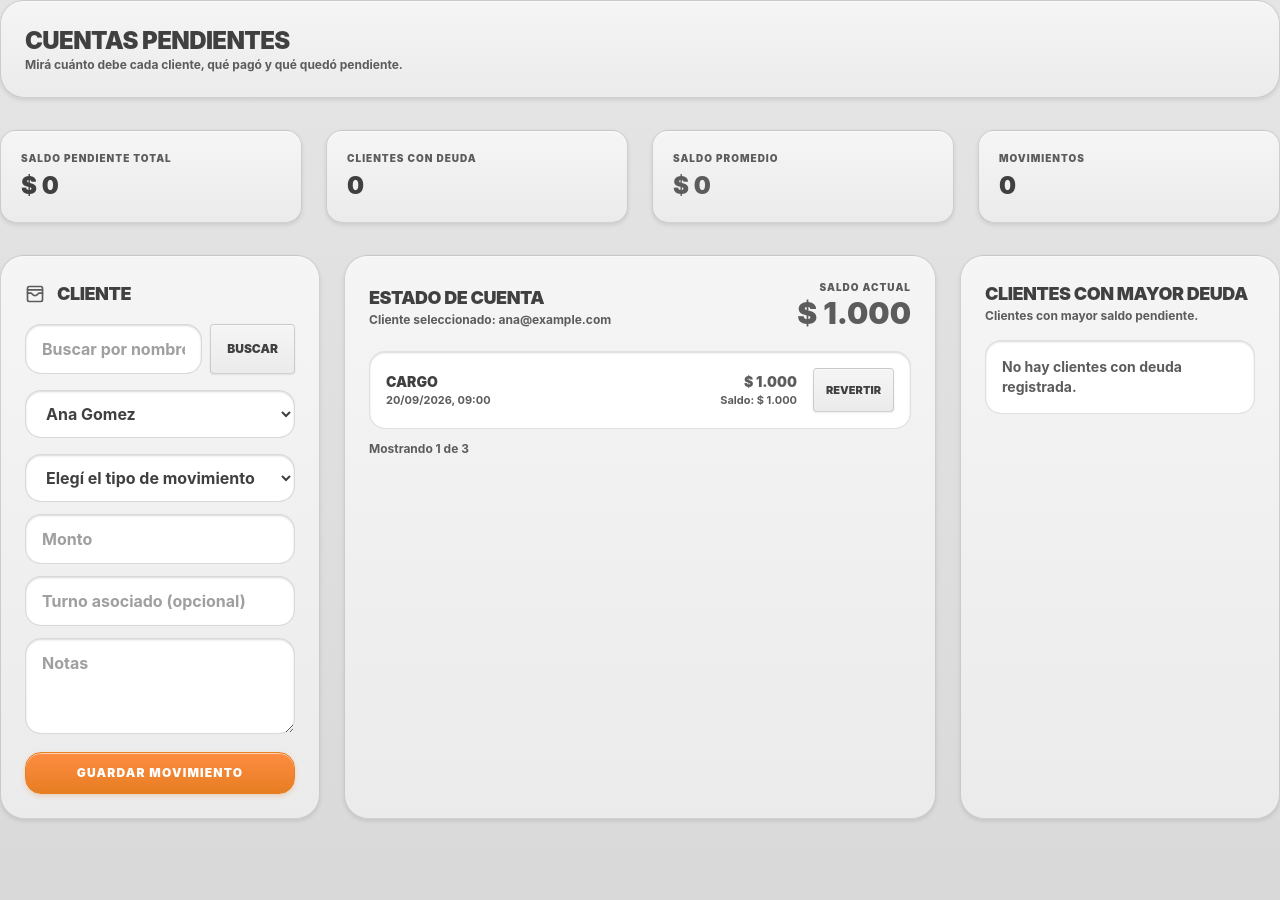
Test: LedgerPage: cargar un movimiento › confirma tipo, monto y cliente antes de guardar; "Volver" no guarda
This screenshot has width=1280, height=900.
Select "Pago" in the dropdown named "Tipo de movimiento": (160,478) [25,454,295,502]
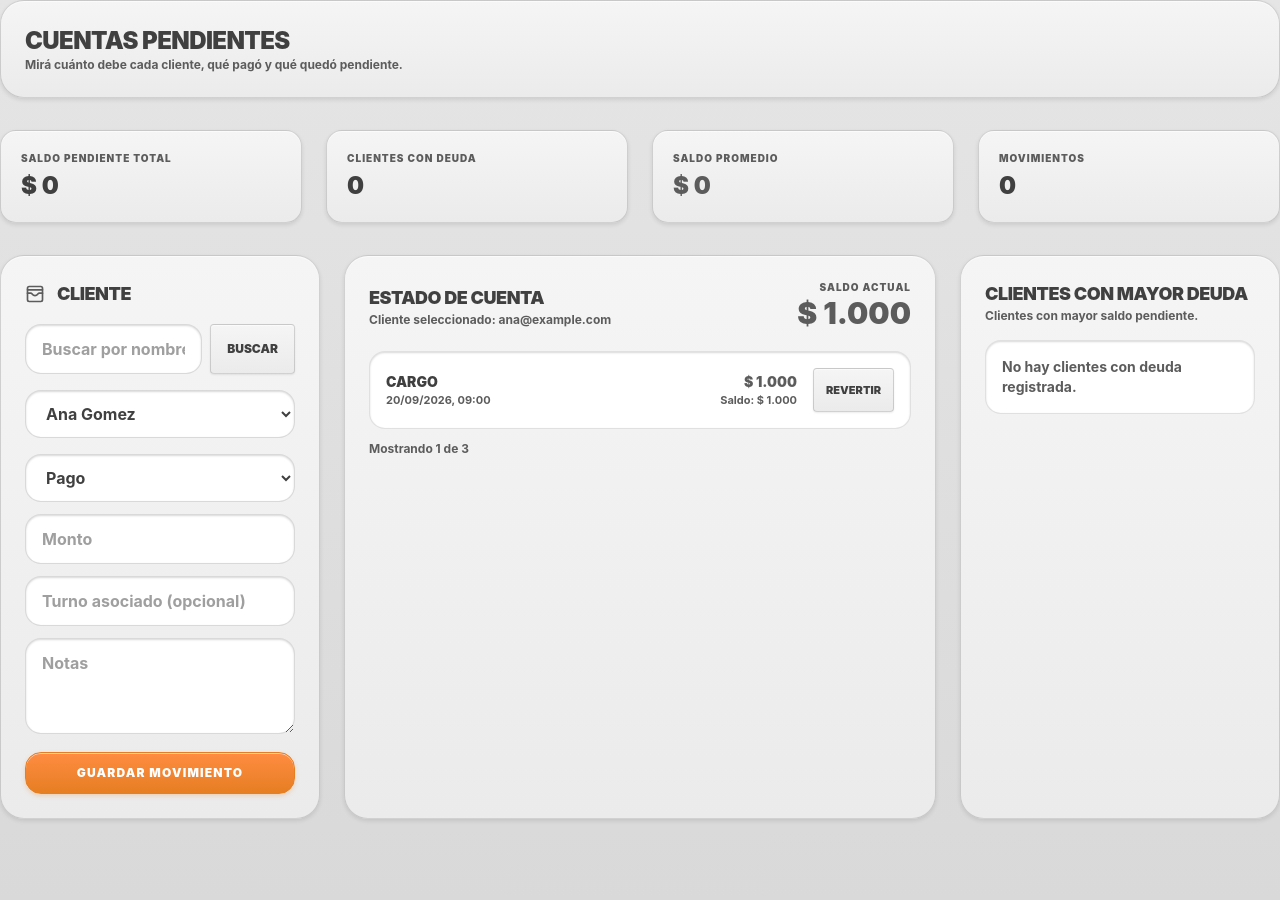
In the field labelled "Monto": (160,539) [25,514,295,564], type "99999"
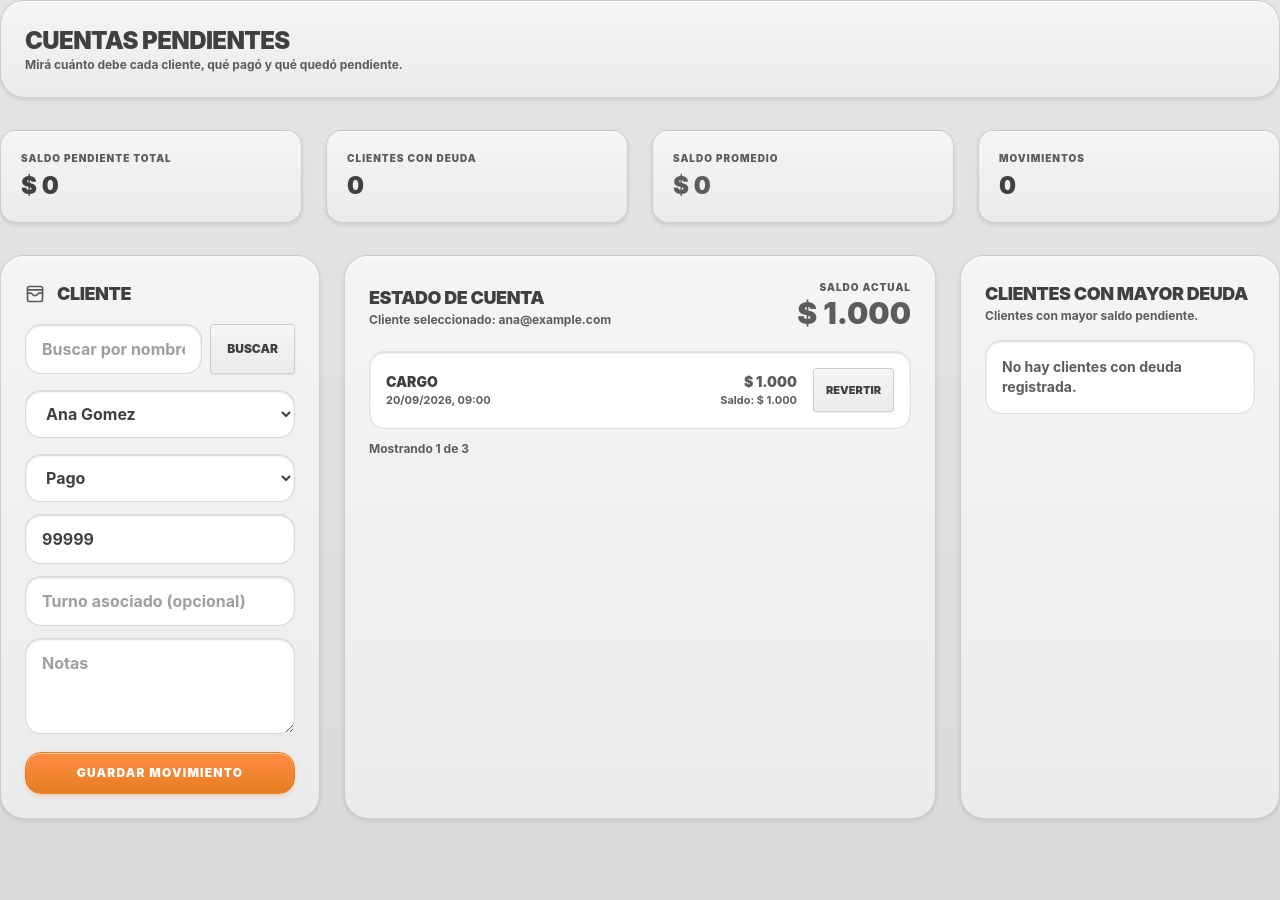
Click the button "Guardar movimiento": (160,773) [25,752,295,794]
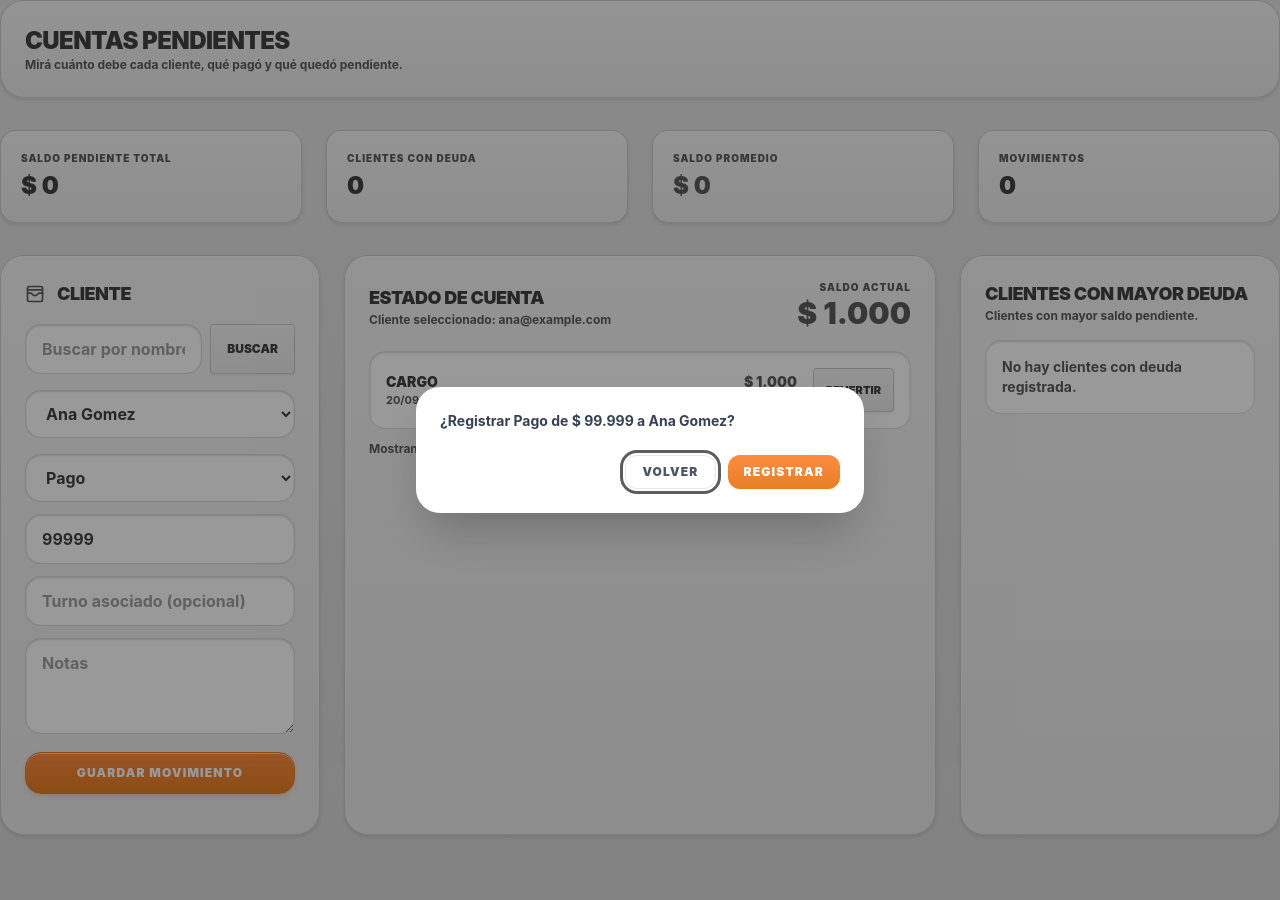
Expected: the dialog shows "Pago", [440,412,735,429]
Expected: the dialog shows "99.999", [440,412,735,429]
Expected: the dialog shows "Ana Gomez", [440,412,735,429]
Click the button "Volver": (670,472) [625,455,716,489]
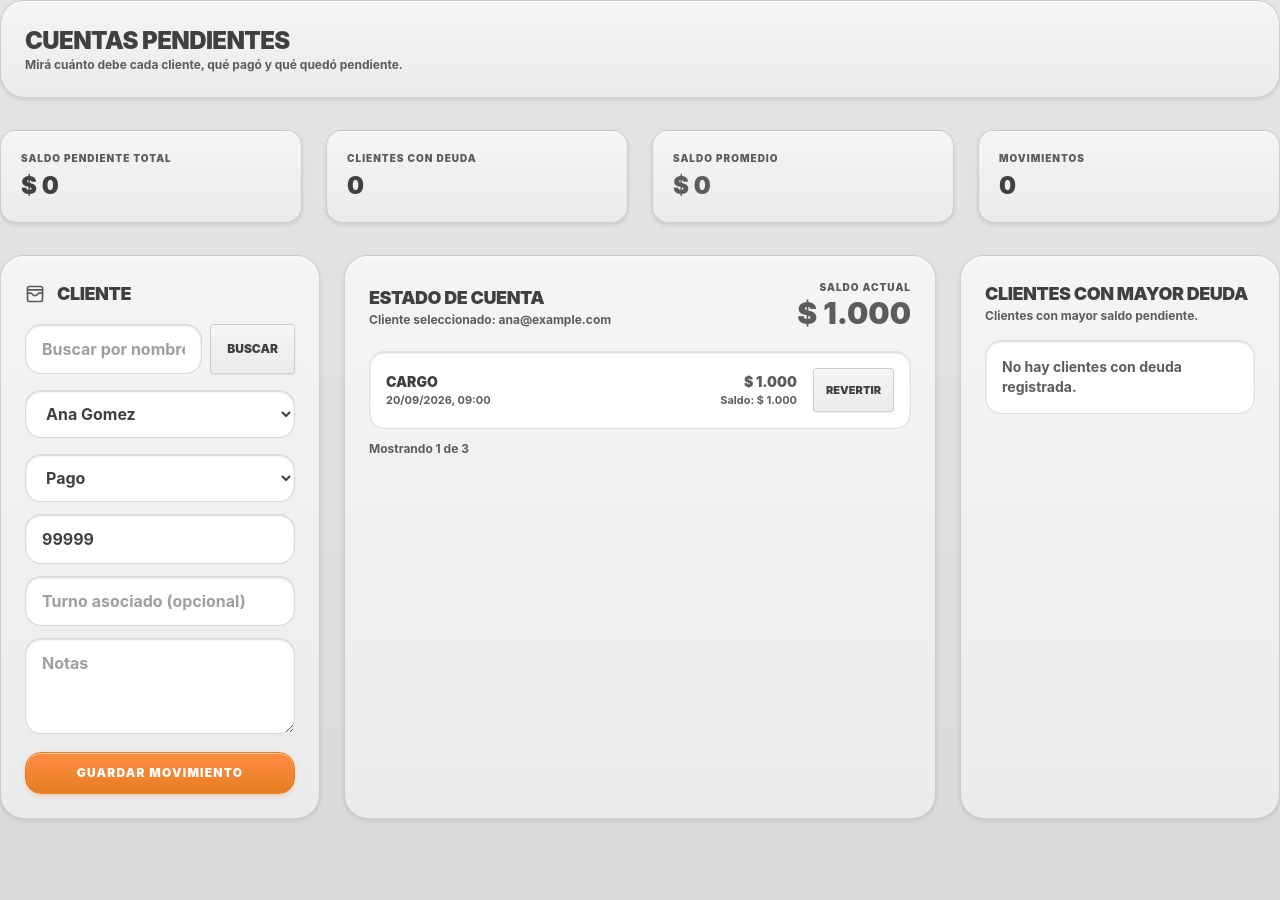
Expected: the dialog is gone
